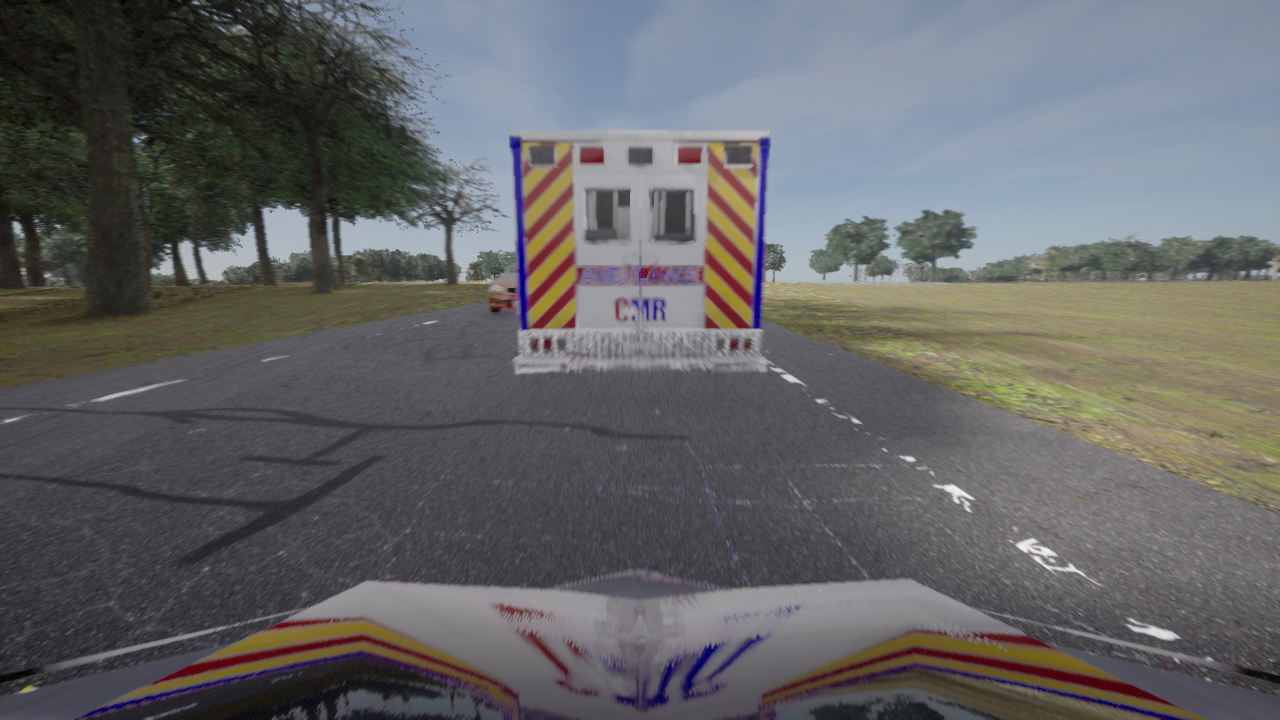cyclist: (0, 569, 1279, 719), (510, 131, 769, 372), (488, 262, 517, 312)
